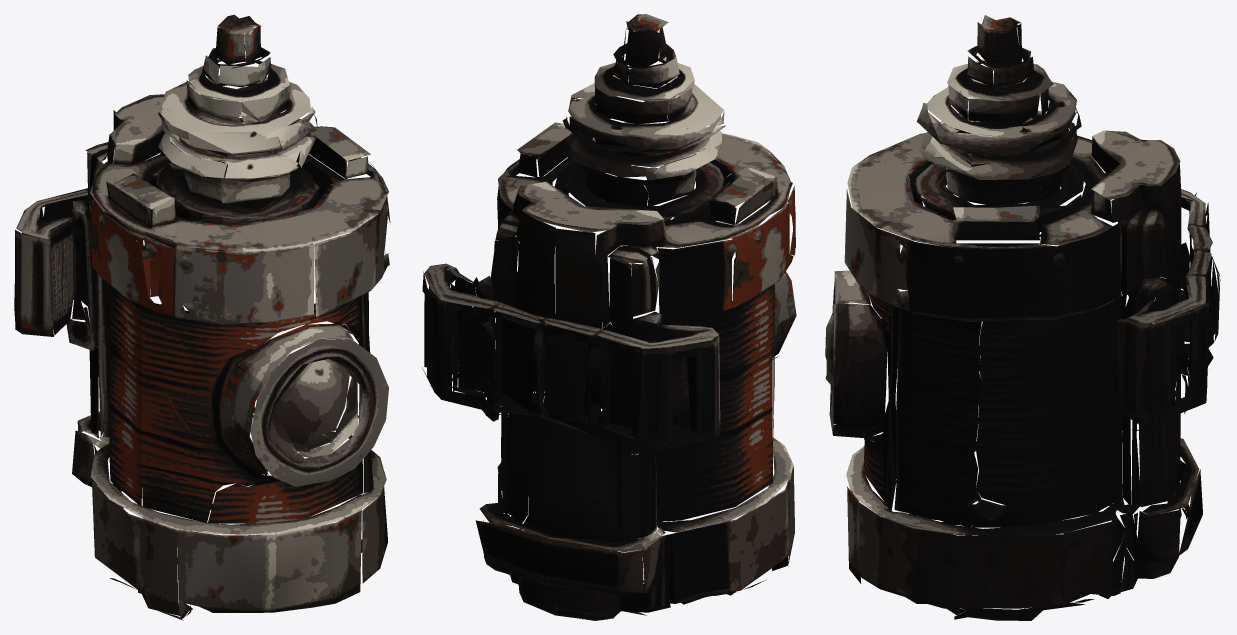
The model's file is co_tesla.glb.
The picture shows the model from 3 angles, left to right: view 1: azimuth 30°, elevation 25°; view 2: azimuth 150°, elevation 25°; view 3: azimuth 270°, elevation 25°; orthographic projection.
Visible parts, largest first — view 1: co_tesla; view 2: co_tesla; view 3: co_tesla.
Boxes of the visible parts, x1,y1,x2,y2 form: co_tesla: [14, 14, 390, 620]; co_tesla: [422, 14, 796, 620]; co_tesla: [825, 15, 1220, 620].
Size of the model in its own units: 0.0732 by 0.13 by 0.0849.
1 material, 1 textured.
